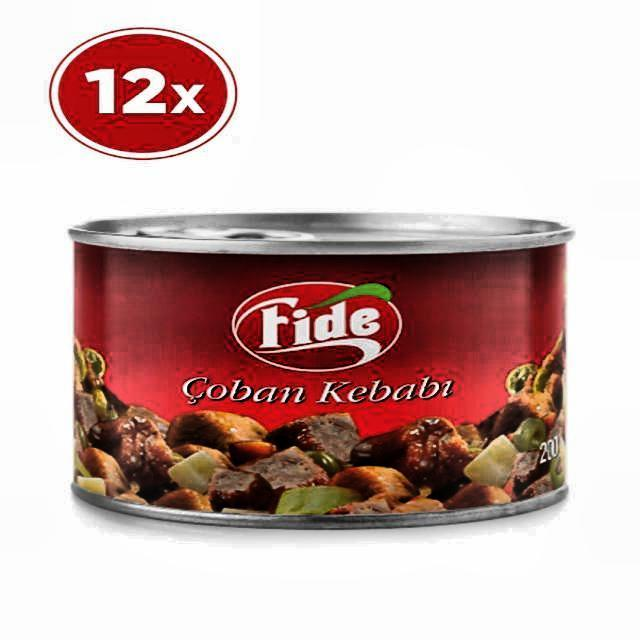metal: (68, 208, 574, 533)
